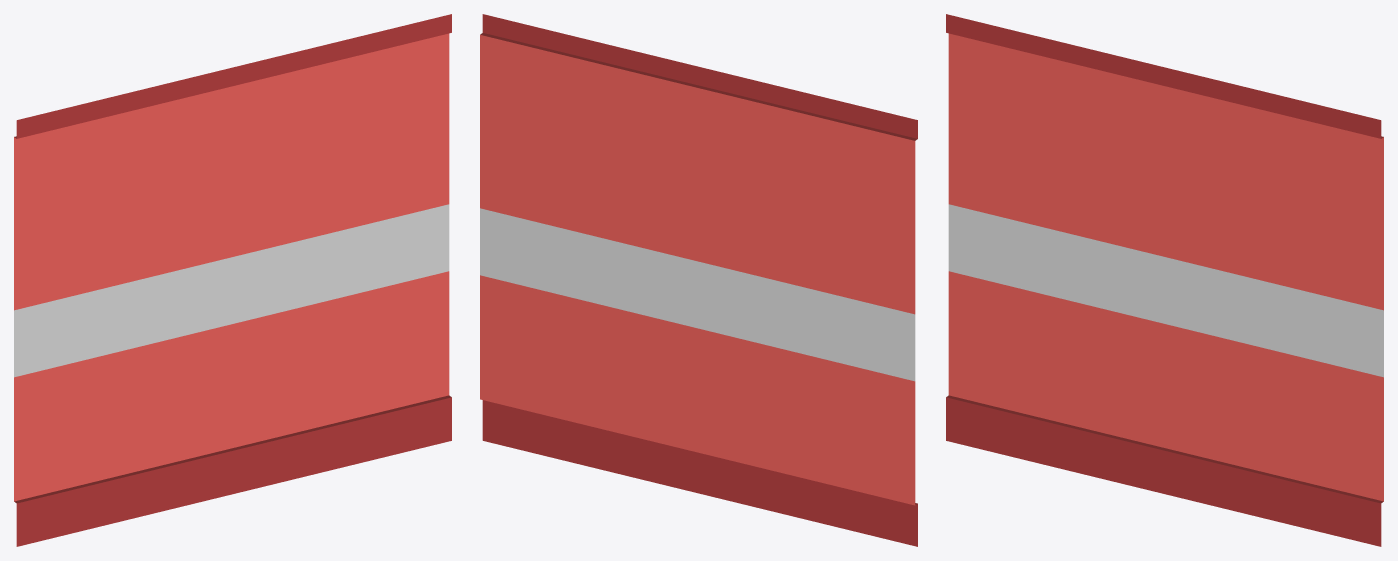
The model's file is Wall2.glb.
3 views of the same model, side by side, from view 1: azimuth 30°, elevation 25°; view 2: azimuth 150°, elevation 25°; view 3: azimuth 330°, elevation 25° (orthographic).
Visible parts, largest first — view 1: SI_Env_Wall_02; view 2: SI_Env_Wall_02; view 3: SI_Env_Wall_02.
Boxes of the visible parts, bbox=[...] form: SI_Env_Wall_02: bbox=[14, 14, 451, 546]; SI_Env_Wall_02: bbox=[480, 14, 917, 546]; SI_Env_Wall_02: bbox=[946, 14, 1383, 546].
Bounding box in the file's own units: 0.05 × 0.0469 × 0.000549.
1 material, 1 textured.
